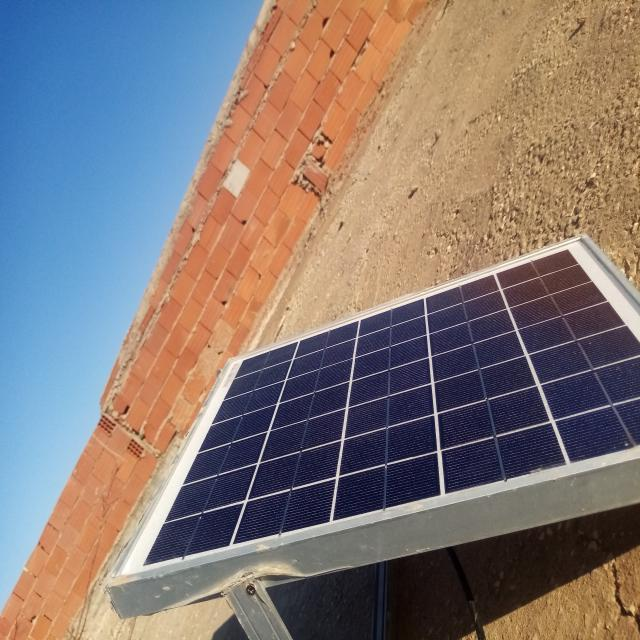no faulty: (108, 234, 640, 585)
